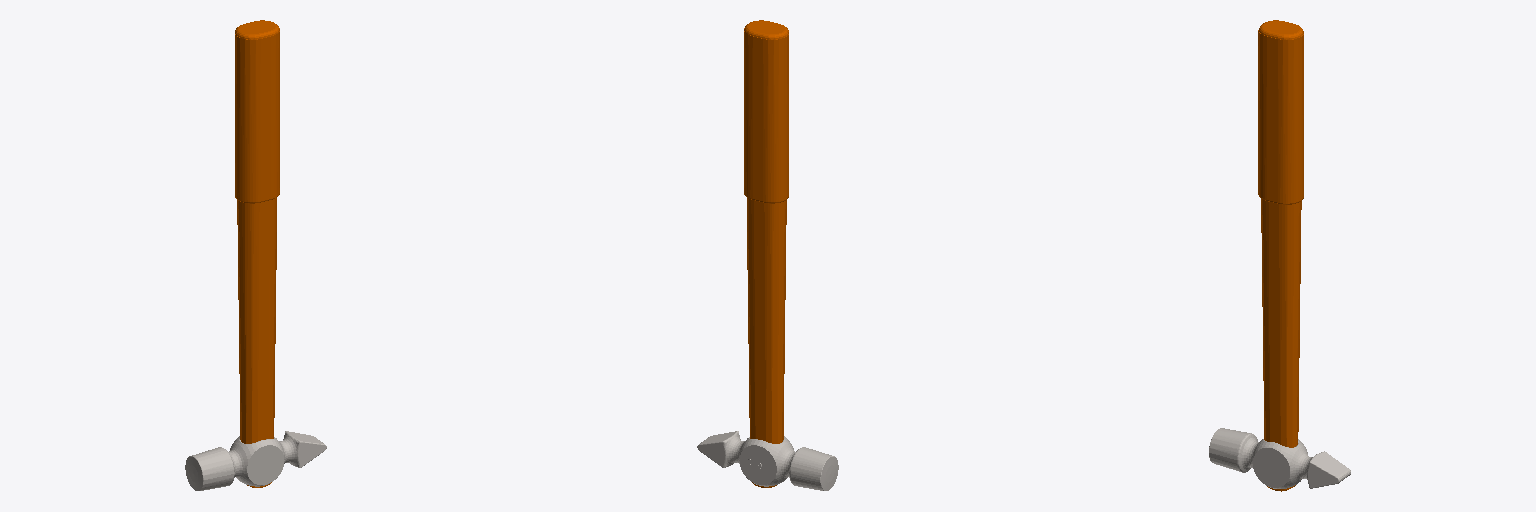
The robot description file, URDF, robot "HammerSmaller":
<?xml version="1.0" encoding="utf-8"?>
<!-- This URDF was automatically created by SolidWorks to URDF Exporter! Originally created by [author] ([email redacted]) 
     Commit Version: 1.6.0-1-g15f4949  Build Version: 1.6.7594.29634
     For more information, please see http://wiki.ros.org/sw_urdf_exporter -->
<robot name="HammerSmaller">
  <link name="handle">
    <inertial>
      <origin
        xyz="-1.2327E-08 -1.477E-09 -0.08839"
        rpy="0 0 0" />
      <mass
        value="0.044636" />
      <inertia
        ixx="0.00015733"
        ixy="8.4377E-12"
        ixz="-6.4876E-11"
        iyy="0.00015793"
        iyz="-7.361E-12"
        izz="2.1057E-06" />
    </inertial>
    <visual>
      <origin
        xyz="0 0 0"
        rpy="0 0 0" />
      <geometry>
        <mesh
          filename="package://HammerSmaller/meshes/handle.stl" />
      </geometry>
      <material name="brown">
        <color rgba="0.8 0.4 0 1"/>
      </material>
    </visual>
    <collision>
      <origin
        xyz="0 0 0"
        rpy="0 0 0" />
      <geometry>
        <mesh
          filename="package://HammerSmaller/meshes/handle.stl" />
      </geometry>
    </collision>
  </link>
  <link
    name="head">
    <inertial>
      <origin
        xyz="-0.0059764 -9.7557E-07 -0.23599"
        rpy="0 0 0" />
      <mass
        value="0.11353" />
      <inertia
        ixx="5.5211E-06"
        ixy="7.112E-10"
        ixz="1.1552E-10"
        iyy="4.736E-05"
        iyz="5.0227E-11"
        izz="4.7564E-05" />
    </inertial>
    <visual>
      <origin
        xyz="0 0 0"
        rpy="0 0 0" />
      <geometry>
        <mesh
          filename="package://HammerSmaller/meshes/head.stl" />
      </geometry>
      <material
        name="">
        <color
          rgba="0.77647 0.75686 0.73725 1" />
      </material>
    </visual>
    <collision>
      <origin
        xyz="0 0 0"
        rpy="0 0 0" />
      <geometry>
        <mesh
          filename="package://HammerSmaller/meshes/head.stl" />
      </geometry>
    </collision>
  </link>
  <joint
    name="Handle_to_head"
    type="fixed">
    <origin
      xyz="0 0 0"
      rpy="0 0 0" />
    <parent
      link="handle" />
    <child
      link="head" />
    <axis
      xyz="0 0 1" />
  </joint>
</robot>

--- What the picture shows (computed from the rendered views, not written in the file) ---
The picture shows the robot from 3 angles, left to right: view 1: azimuth 30°, elevation 25°; view 2: azimuth 150°, elevation 25°; view 3: azimuth 330°, elevation 25°; orthographic projection.
Model HammerSmaller with 2 links and 1 joints (1 fixed), rooted at handle, posed every joint at zero.
Visible links, largest first — view 1: handle, head; view 2: handle, head; view 3: handle, head.
Link boxes in pixels (left/top/right/bottom): handle: left=235, top=20, right=279, bottom=487; head: left=185, top=431, right=326, bottom=490; handle: left=744, top=20, right=788, bottom=487; head: left=697, top=431, right=838, bottom=490; handle: left=1258, top=20, right=1303, bottom=491; head: left=1209, top=428, right=1350, bottom=488.
Size in the robot's own frame: 0.073 by 0.0199 by 0.25 metres.
Meshes: 2 distinct files referenced, 2 mesh visuals loaded (2 binary STL).